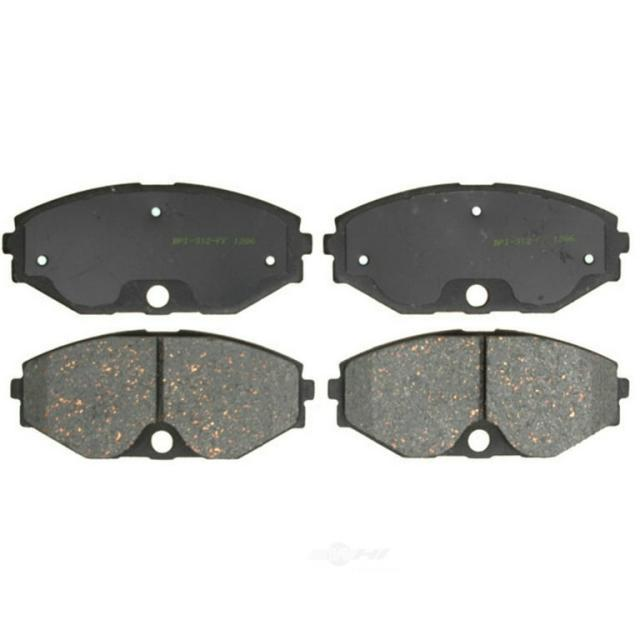brake_pad: (0, 172, 319, 320), (327, 182, 640, 317), (0, 334, 318, 464), (321, 337, 640, 461)
